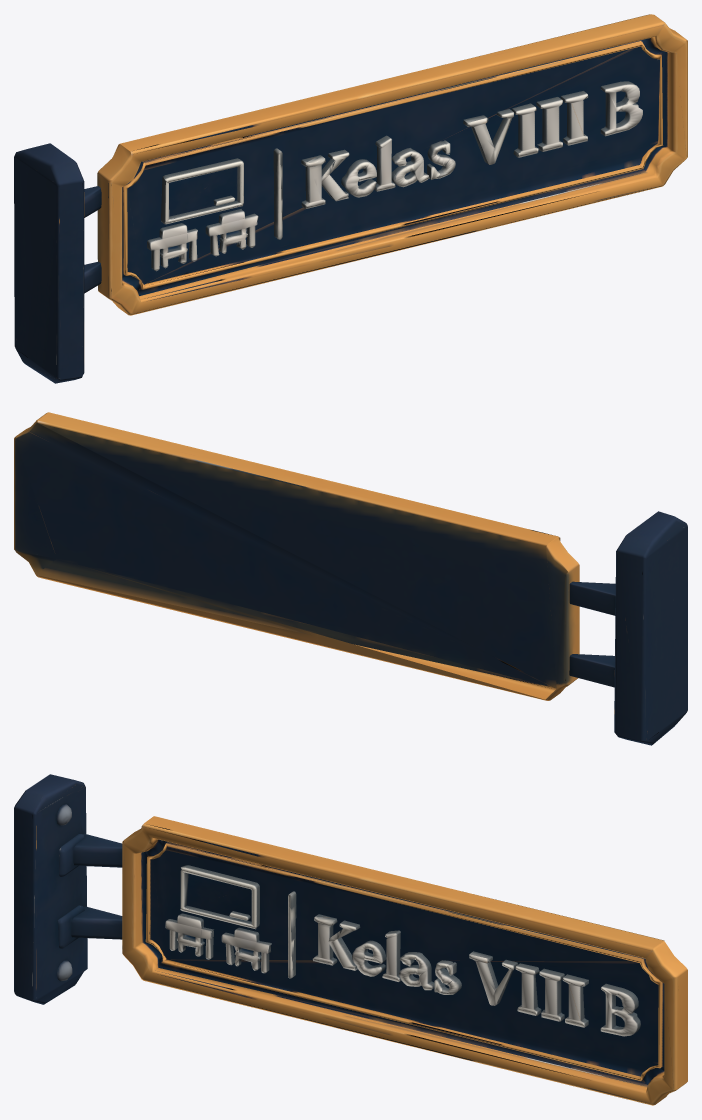
Rendered from label-kelasB.fbx.
3 renders of one model, top to bottom at view 1: azimuth 30°, elevation 25°; view 2: azimuth 150°, elevation 25°; view 3: azimuth 330°, elevation 25°, orthographic. The views are drawn at different scales.
Visible parts, largest first — view 1: geometry_0; view 2: geometry_0; view 3: geometry_0.
Part boxes in pixels (<box>): geometry_0: <box>14,14,687,383</box>; geometry_0: <box>14,412,687,745</box>; geometry_0: <box>14,774,687,1105</box>.
Bounding box in the file's own units: 95.61 × 30.32 × 11.96.
Materials: 1 (1 with a texture image).
